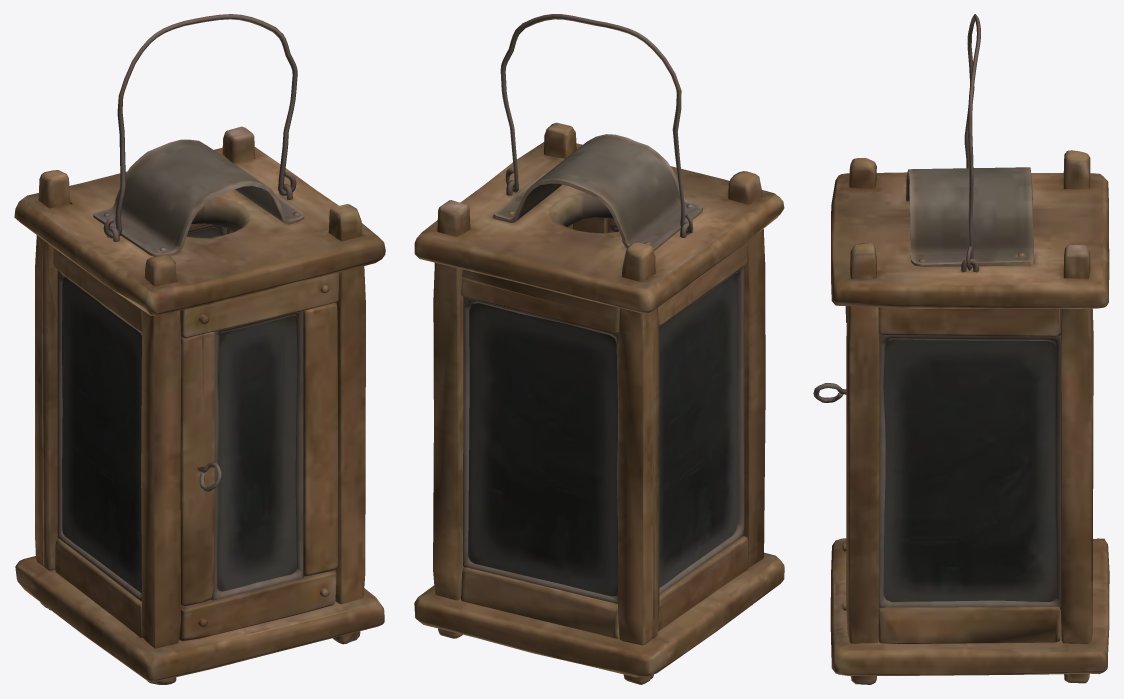
Rendered from lantern.glb.
3 views of the same model, side by side, from view 1: azimuth 30°, elevation 25°; view 2: azimuth 150°, elevation 25°; view 3: azimuth 270°, elevation 25° (orthographic).
Visible parts, largest first — view 1: wooden_lantern_01, wooden_lantern_01_door, wooden_lantern_01_handle; view 2: wooden_lantern_01, wooden_lantern_01_handle, wooden_lantern_01_door; view 3: wooden_lantern_01, wooden_lantern_01_handle, wooden_lantern_01_door.
Boxes of the visible parts, x1,y1,x2,y2 form: wooden_lantern_01: (14,126,385,684); wooden_lantern_01_door: (179,272,339,641); wooden_lantern_01_handle: (103,14,297,238); wooden_lantern_01: (414,122,784,684); wooden_lantern_01_handle: (500,14,692,234); wooden_lantern_01_door: (573,217,618,233); wooden_lantern_01: (830,150,1109,684); wooden_lantern_01_handle: (964,14,980,270); wooden_lantern_01_door: (813,306,847,610).
Bounding box in the file's own units: 0.2211 × 0.5301 × 0.2347.
2 materials, 2 textured.
